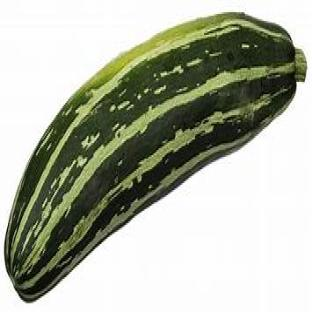Zucchini: (6, 13, 306, 301)
